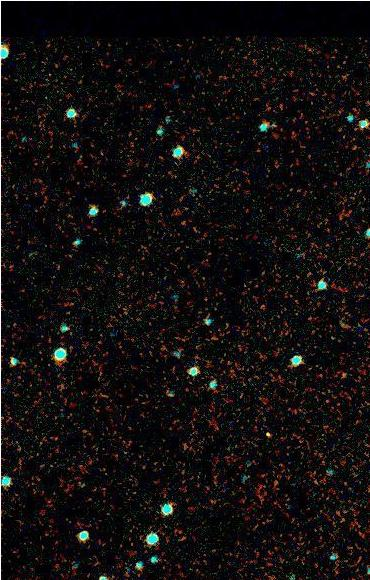star: (254, 416, 284, 446)
